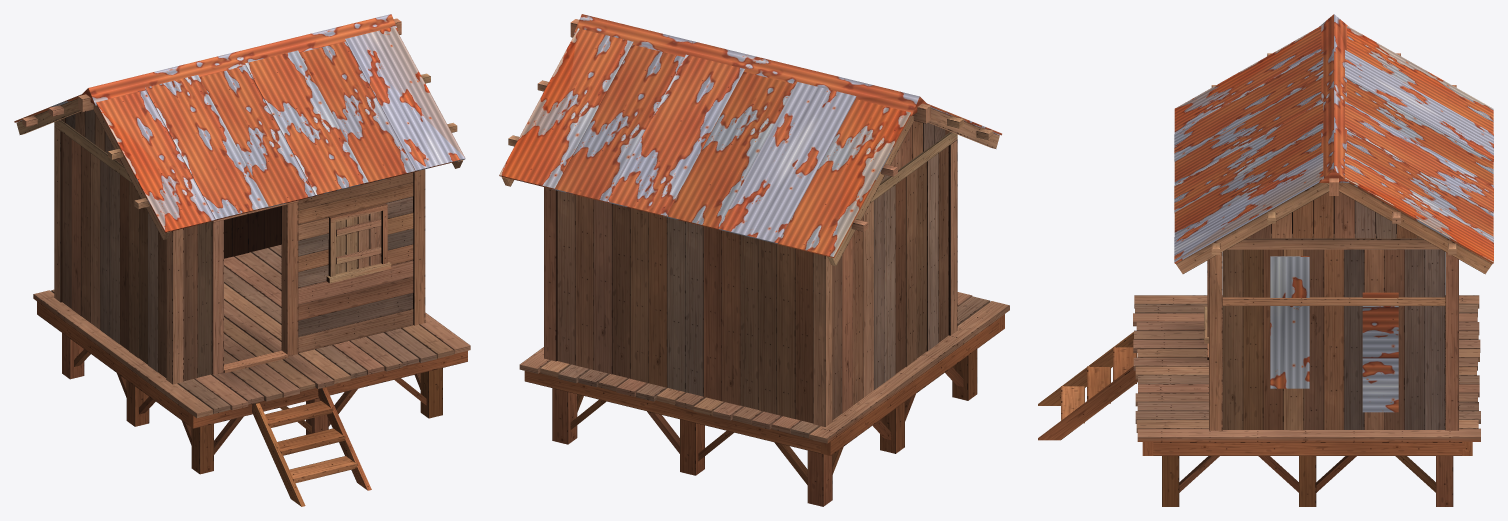
File: houdini_stilt_shack_masks.glb
3 renders of one model, left to right at view 1: azimuth 30°, elevation 25°; view 2: azimuth 150°, elevation 25°; view 3: azimuth 270°, elevation 25°, orthographic. The views are drawn at different scales.
Parts seen in each view (by area): view 1: LOD0; view 2: LOD0; view 3: LOD0.
Boxes of the visible parts, x1,y1,x2,y2 form: LOD0: (14,14,470,506); LOD0: (499,14,1009,506); LOD0: (1038,14,1493,506).
Size of what is drawn, in the model's own units: 4.04 by 4.05 by 4.74.
2 materials, 2 textured.
